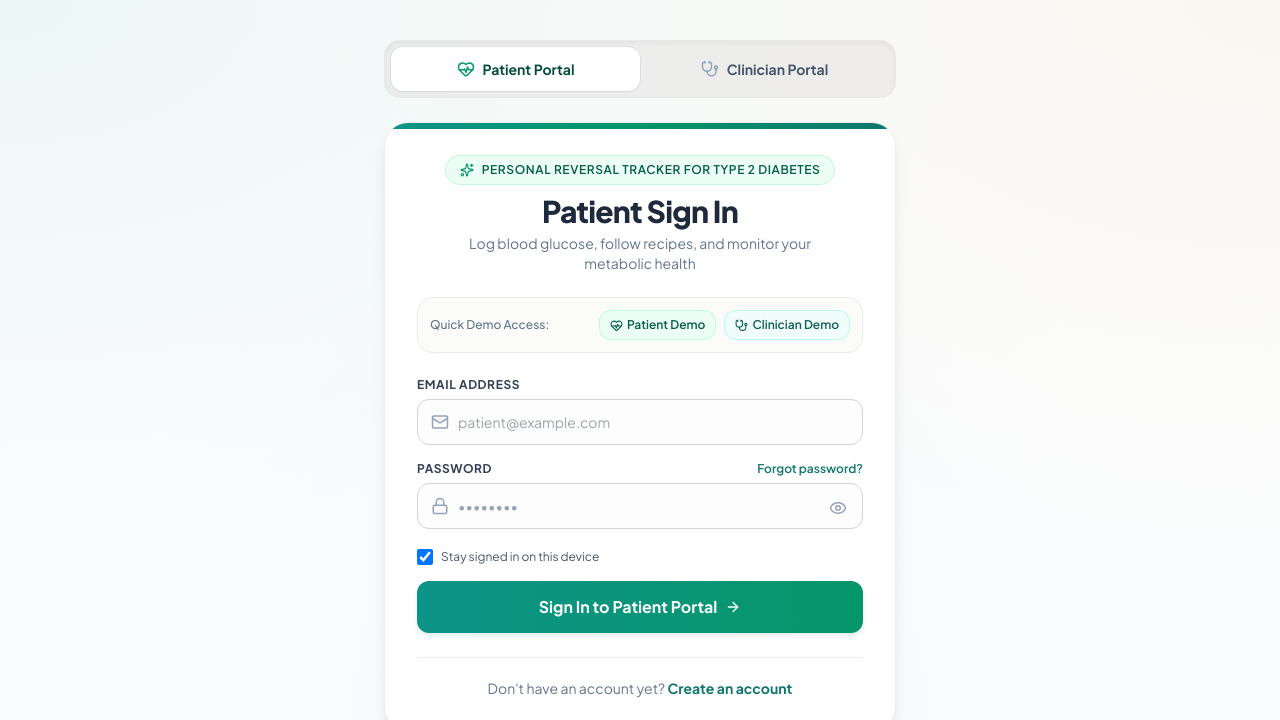
LoginPage Component › populates Clinician demo credentials with 1 click
Click the button "Clinician Demo" at [787, 325], box [724,310,850,340]
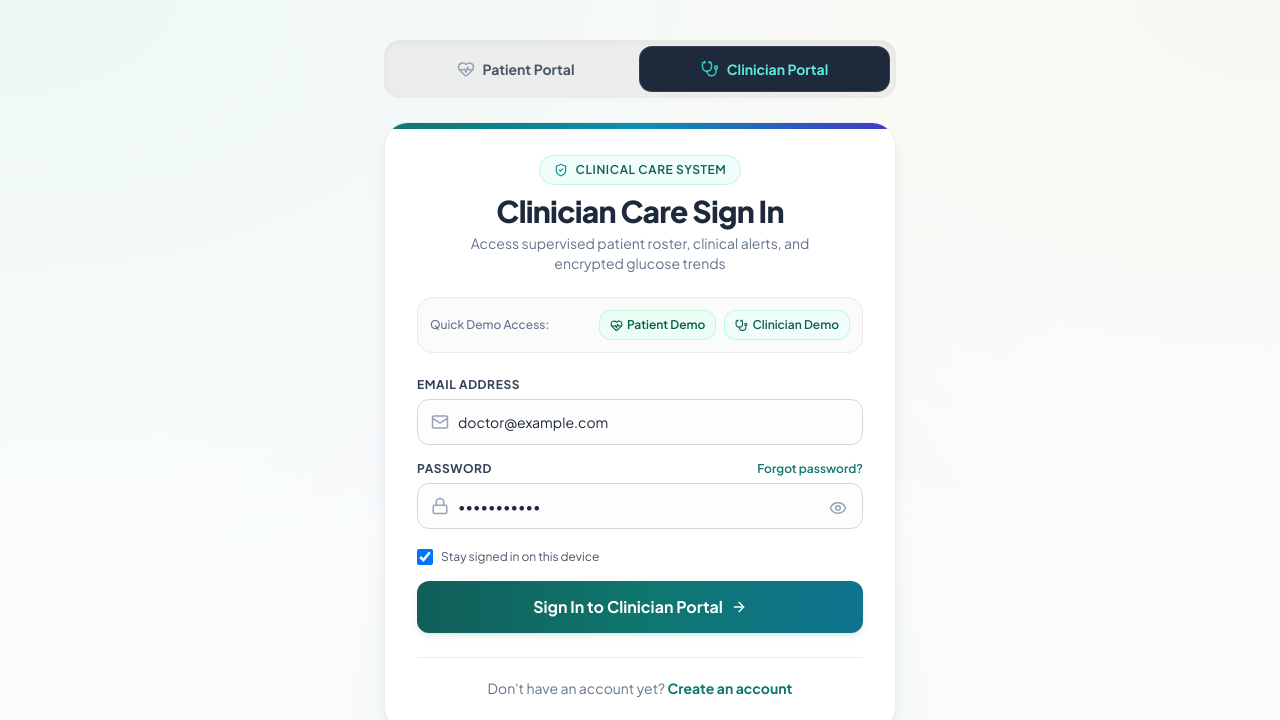
Check: the field labelled "Email Address" holds "doctor@example.com", box [417,399,863,445]
Check: the password field with id "login-password" holds "password123", box [417,483,863,529]
Check: the heading "Clinician Care Sign In" is shown, box [496,192,784,230]
